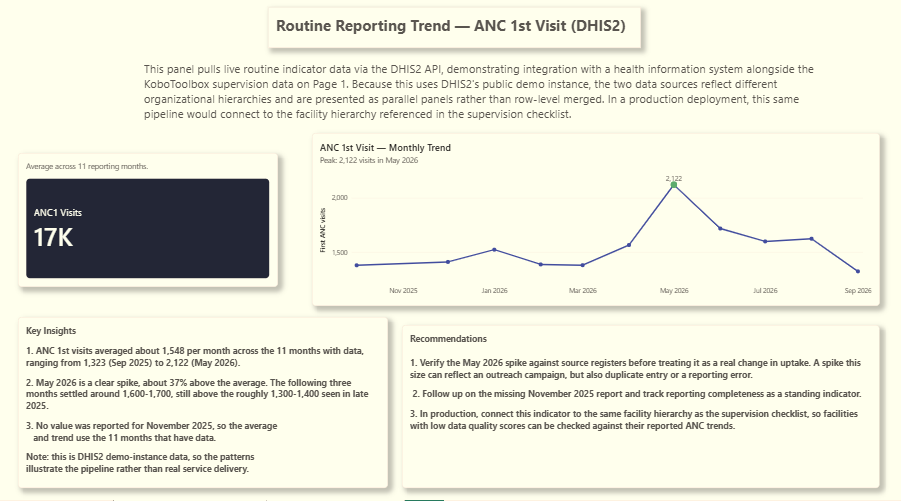

The dashboard page shown, as its layout file describes it:
{"tool":"powerbi","page":{"name":"anc_routine_trend","canvas":[1920,1080],"ordinal":1},"visuals":[{"type":"lineChart","title":"ANC 1st Visit — Monthly Trend","fields":{"Category":["public dhis2_anc1_indicator.visit_month_date"],"Y":["Sum(public dhis2_anc1_indicator.anc1_visits)","public dhis2_anc1_indicator.Peak ANC1 Label"]},"box":[663.3,299.8,1207.6,367.8],"z":0},{"type":"cardVisual","fields":{"Data":["public dhis2_anc1_indicator.ANC1 Visits"]},"box":[38.3,342.3,552.8,284.9],"z":1000},{"type":"textbox","box":[569.8,31.9,793,87.2],"z":2000},{"type":"textbox","box":[306.1,146.7,1475.4,150.9],"z":3000},{"type":"textbox","box":[38.3,690.9,786.6,363.5],"z":4000},{"type":"textbox","box":[854.6,708,1016.2,346.5],"z":5000}]}

Visuals, with their boxes in screenshot pixels (x1, y1, x2, y2), scaled from the page's 1920x1080 canvas onto the 901x501 screenshot:
"ANC 1st Visit — Monthly Trend" lineChart: Rect(311, 139, 878, 310)
cardVisual - public dhis2_anc1_indicator.ANC1 Visits: Rect(18, 159, 277, 291)
textbox: Rect(267, 15, 640, 55)
textbox: Rect(144, 68, 836, 138)
textbox: Rect(18, 321, 387, 489)
textbox: Rect(401, 328, 878, 489)
